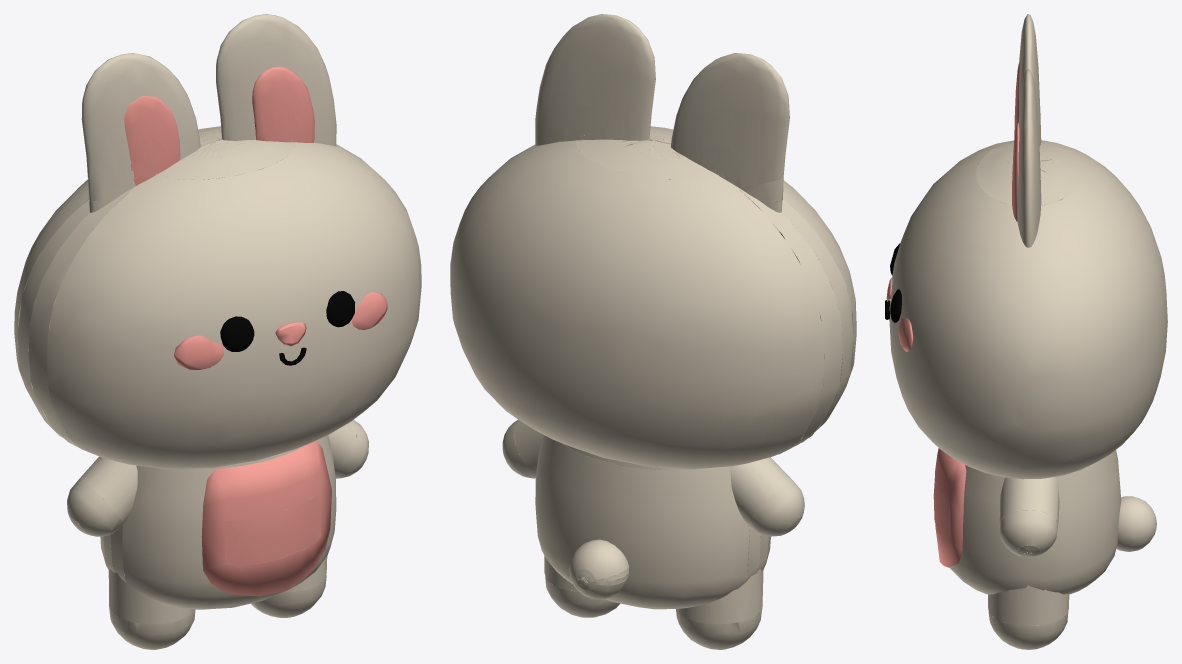
The model's file is rabbit.glb.
The picture shows the model from 3 angles, left to right: view 1: azimuth 30°, elevation 25°; view 2: azimuth 150°, elevation 25°; view 3: azimuth 270°, elevation 25°; orthographic projection. The views are drawn at different scales.
Parts seen in each view (by area): view 1: 3enin_Material.002_0; view 2: 3enin_Material.002_0; view 3: 3enin_Material.002_0.
Boxes of the visible parts, left/top/right/bottom form: 3enin_Material.002_0: left=14, top=14, right=421, bottom=649; 3enin_Material.002_0: left=450, top=14, right=856, bottom=649; 3enin_Material.002_0: left=885, top=14, right=1167, bottom=649.
Bounding box in the file's own units: 4.6 × 7.04 × 3.21.
